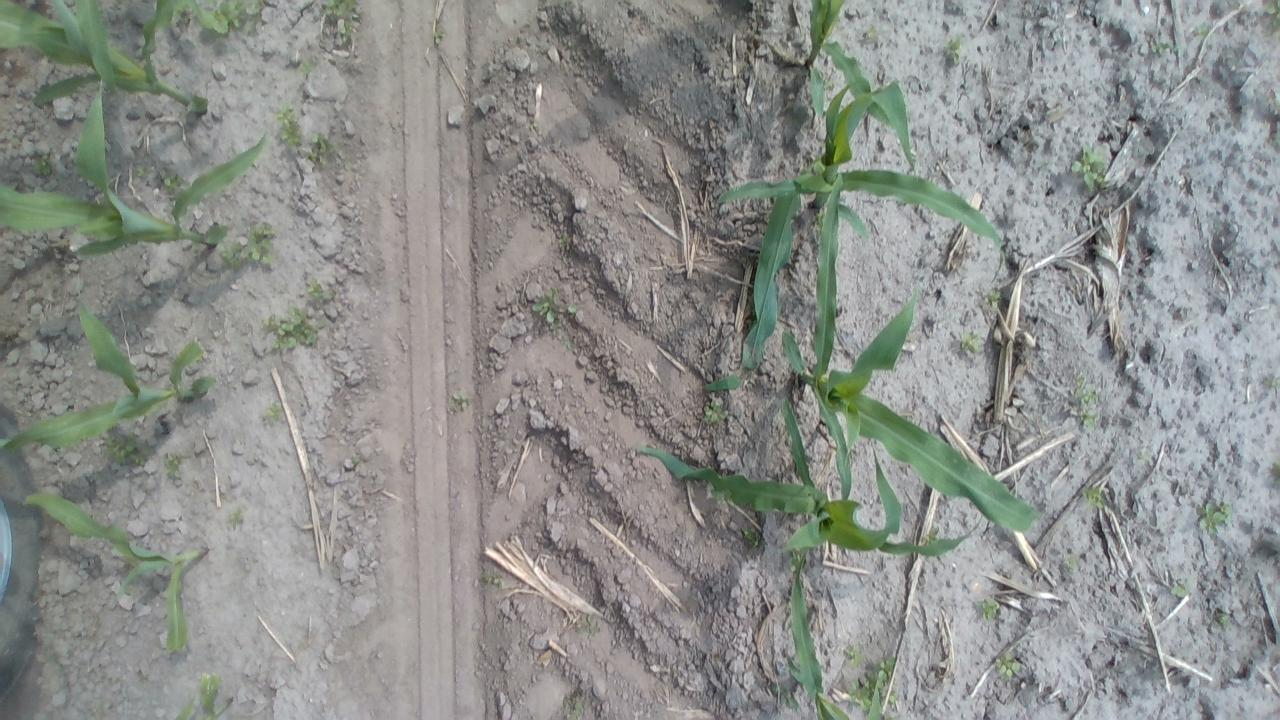Maize: (773, 162, 1047, 545), (714, 83, 1015, 379), (630, 388, 996, 574), (0, 72, 271, 262), (0, 292, 220, 462), (20, 484, 212, 651), (0, 0, 213, 118), (798, 0, 922, 172), (779, 550, 898, 720), (165, 668, 248, 720)
Weeds: (846, 655, 900, 716), (264, 306, 326, 354), (99, 428, 158, 467), (1068, 142, 1113, 193), (529, 287, 582, 328), (318, 0, 362, 47), (207, 0, 261, 37), (1072, 372, 1103, 431), (244, 218, 278, 270), (268, 101, 304, 150), (1196, 499, 1238, 538), (307, 131, 337, 170), (1166, 571, 1203, 602), (301, 277, 338, 307), (556, 691, 590, 720), (160, 453, 192, 483), (975, 590, 1001, 626), (942, 33, 968, 68), (572, 608, 602, 638), (476, 566, 510, 592), (444, 388, 474, 415), (215, 240, 245, 267), (296, 50, 324, 78), (1132, 446, 1160, 474), (701, 394, 728, 423), (1148, 34, 1180, 57), (956, 326, 980, 356), (784, 548, 805, 582), (262, 396, 288, 423), (1080, 482, 1106, 509), (994, 654, 1022, 679), (843, 642, 868, 667), (158, 168, 184, 192), (225, 503, 245, 534), (740, 524, 764, 548), (32, 156, 58, 178), (1194, 22, 1220, 44), (1259, 0, 1280, 25), (128, 158, 150, 180), (558, 232, 579, 254), (860, 21, 881, 43), (983, 286, 1004, 308), (1214, 606, 1232, 629), (1265, 372, 1280, 398), (1062, 554, 1080, 574), (809, 156, 828, 173), (430, 27, 446, 47), (349, 450, 363, 468), (1271, 458, 1280, 483), (561, 336, 575, 350)
